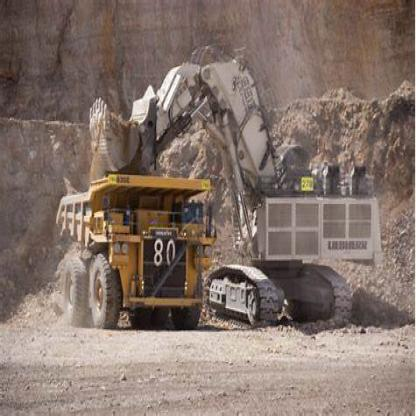dump_truck: (49, 167, 213, 340)
excavator: (86, 30, 388, 336)
